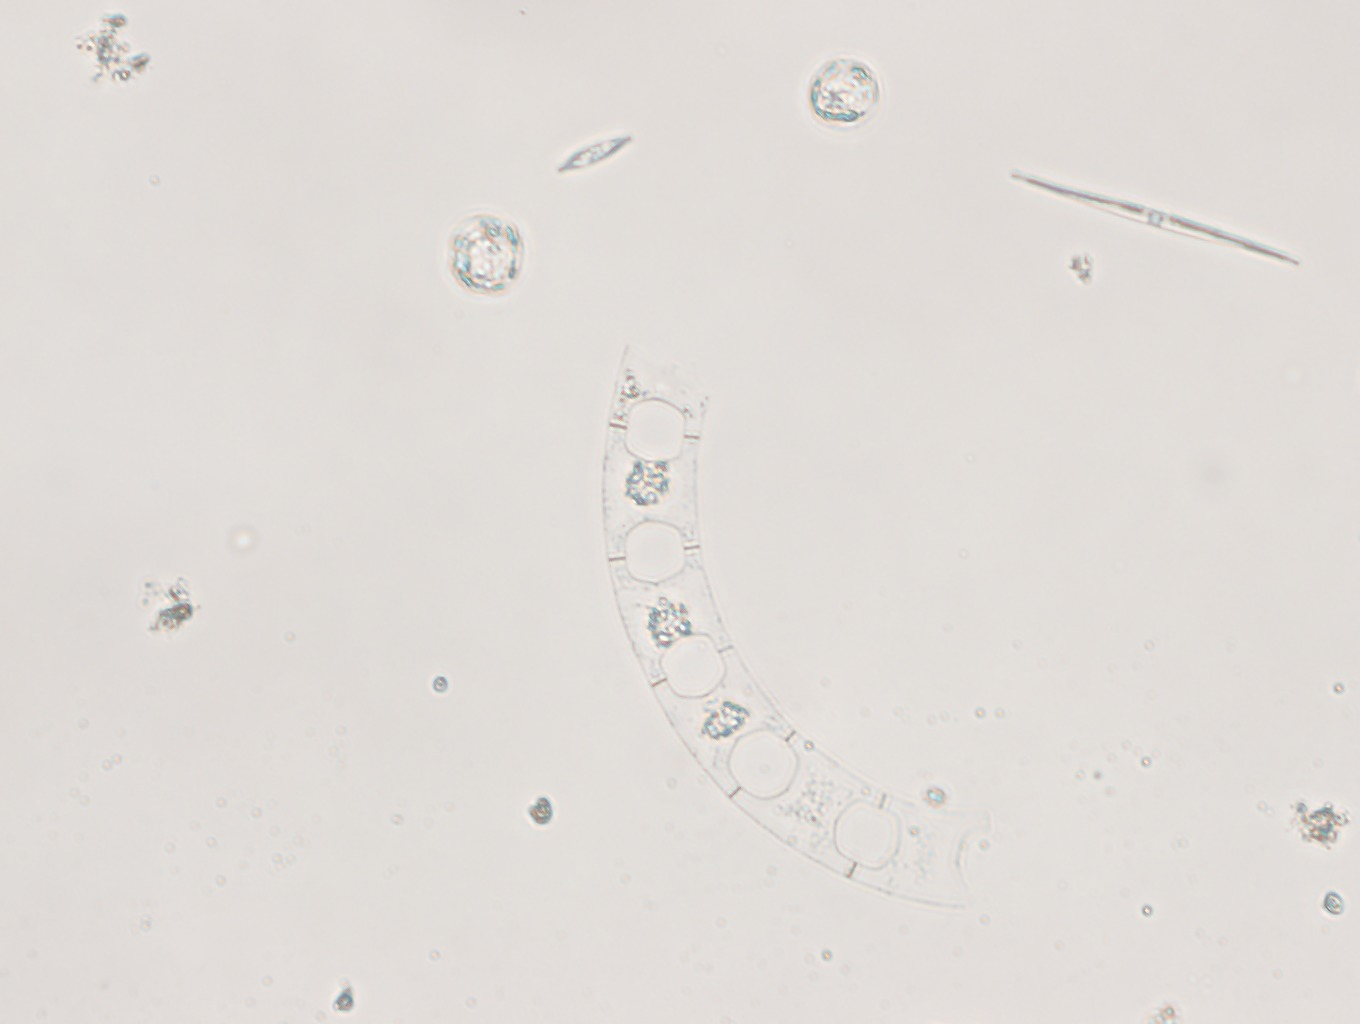eucampia: (598, 336, 980, 911)
navicula: (1008, 169, 1299, 268), (557, 138, 631, 171)
